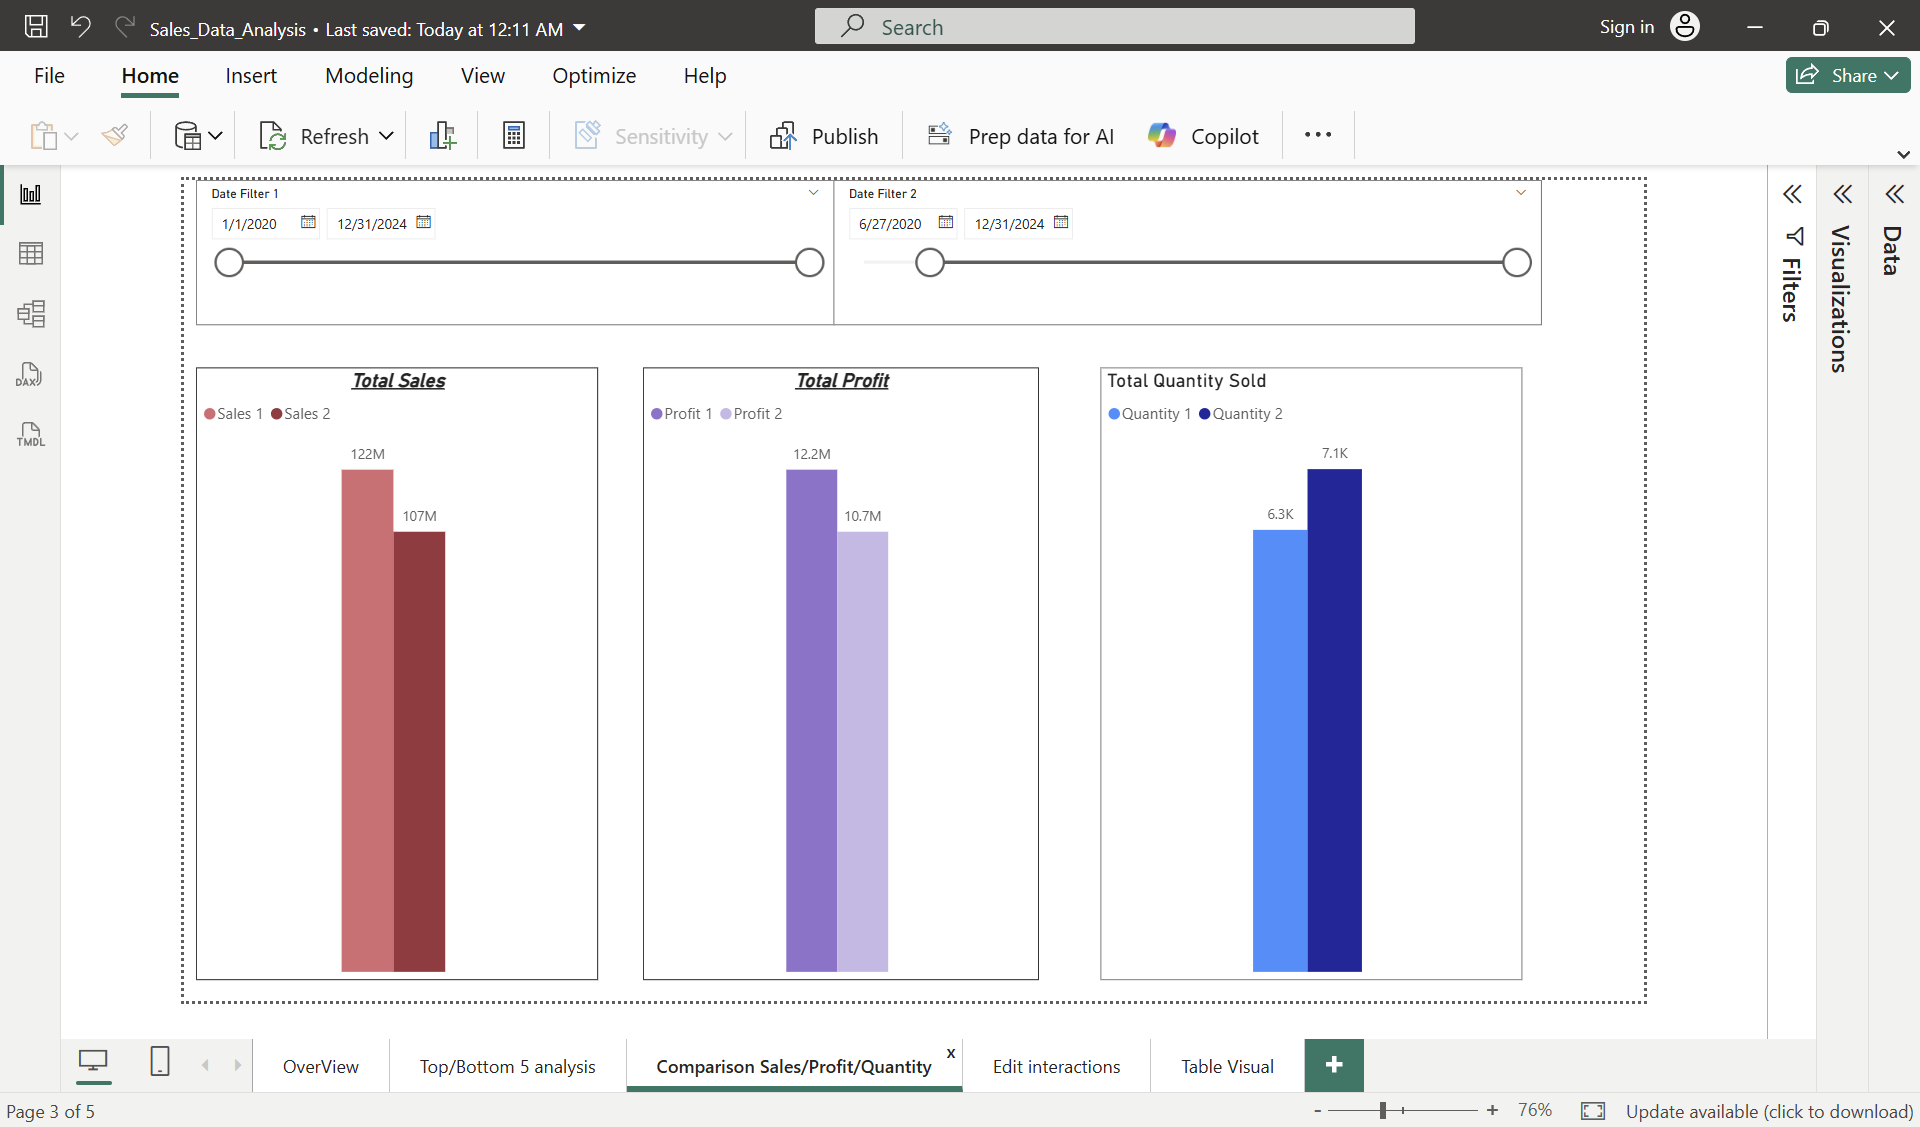

The page's visual inventory and layout, read from the dashboard file:
{"tool":"powerbi","page":{"name":"Comparison Sales/Profit/Quantity","canvas":[1280,720],"ordinal":2},"visuals":[{"type":"slicer","fields":{"Values":["Date Table 1.Date"]},"box":[10,0,560,127.1],"z":0},{"type":"slicer","fields":{"Values":["Date Table 2.Date"]},"box":[570,0,621.4,127.1],"z":1000},{"type":"clusteredColumnChart","title":"Total Sales","fields":{"Y":["Sum(Fact Table.Net Sales  )","Date Table 1.Sum of Net Sales"]},"box":[10,164.3,352.9,537.1],"z":2000},{"type":"clusteredColumnChart","title":"Total Profit","fields":{"Y":["Sum(Fact Table.Profit)","Measuers Table.Total Profit"]},"box":[402.9,164.3,347.1,537.1],"z":2001},{"type":"clusteredColumnChart","title":"Total Quantity Sold","fields":{"Y":["Measuers Table.Quantity Sold","Sum(Fact Table.Units Sold)"]},"box":[804.3,164.3,370,537.1],"z":2003}]}

Visuals, with their boxes on the page's 1280x720 design canvas (x1, y1, x2, y2). These are canvas units, not pixel positions in the 1920x1127 screenshot, which may show the page scaled, cropped or inside an application window:
slicer - Date Table 1.Date: crop(10, 0, 570, 127)
slicer - Date Table 2.Date: crop(570, 0, 1191, 127)
"Total Sales" clusteredColumnChart: crop(10, 164, 363, 701)
"Total Profit" clusteredColumnChart: crop(403, 164, 750, 701)
"Total Quantity Sold" clusteredColumnChart: crop(804, 164, 1174, 701)
